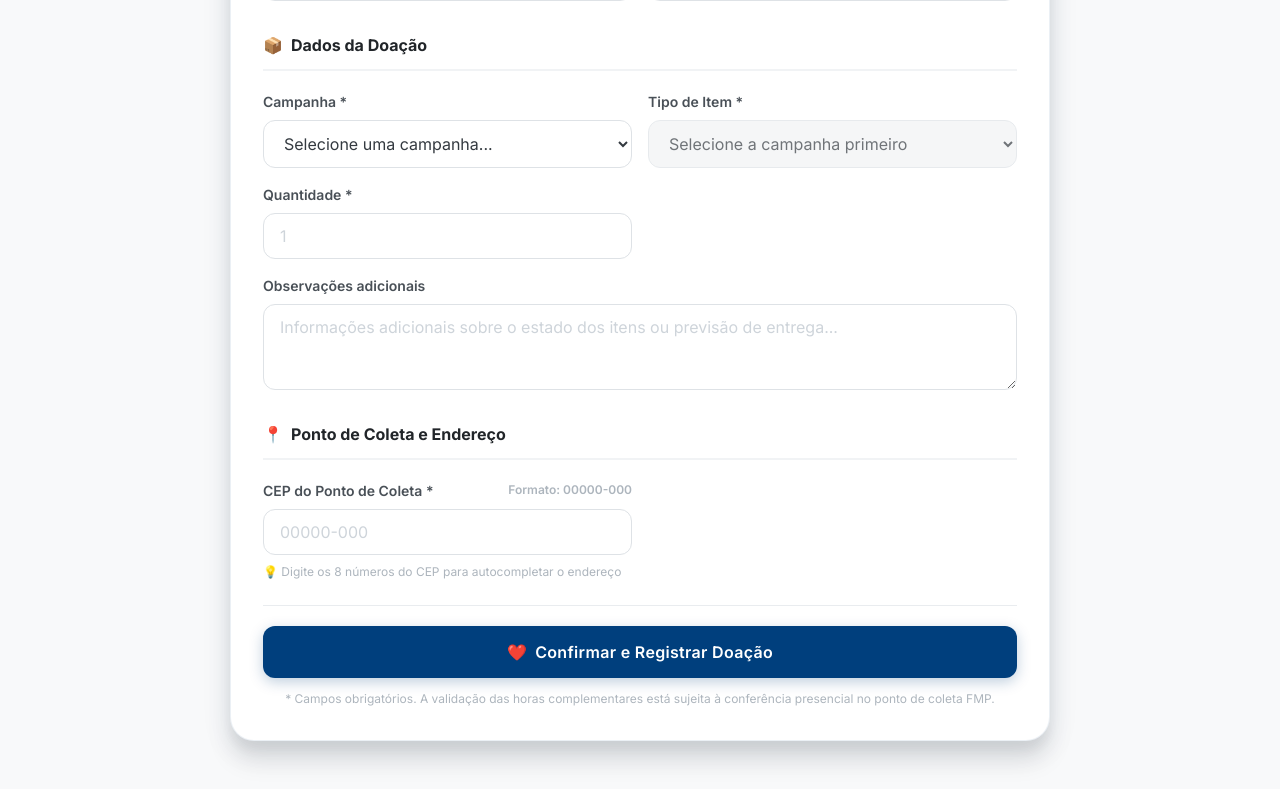
DonationForm — Preenchimento Automático via CEP (ViaCEP) › deve exibir mensagem amigável de erro caso o CEP seja inválido ou não encontrado
(page scrolled)
In the field labelled "CEP do Ponto de Coleta * Formato: 00000-000": (448, 532) [263,508,632,554], type "99999999"
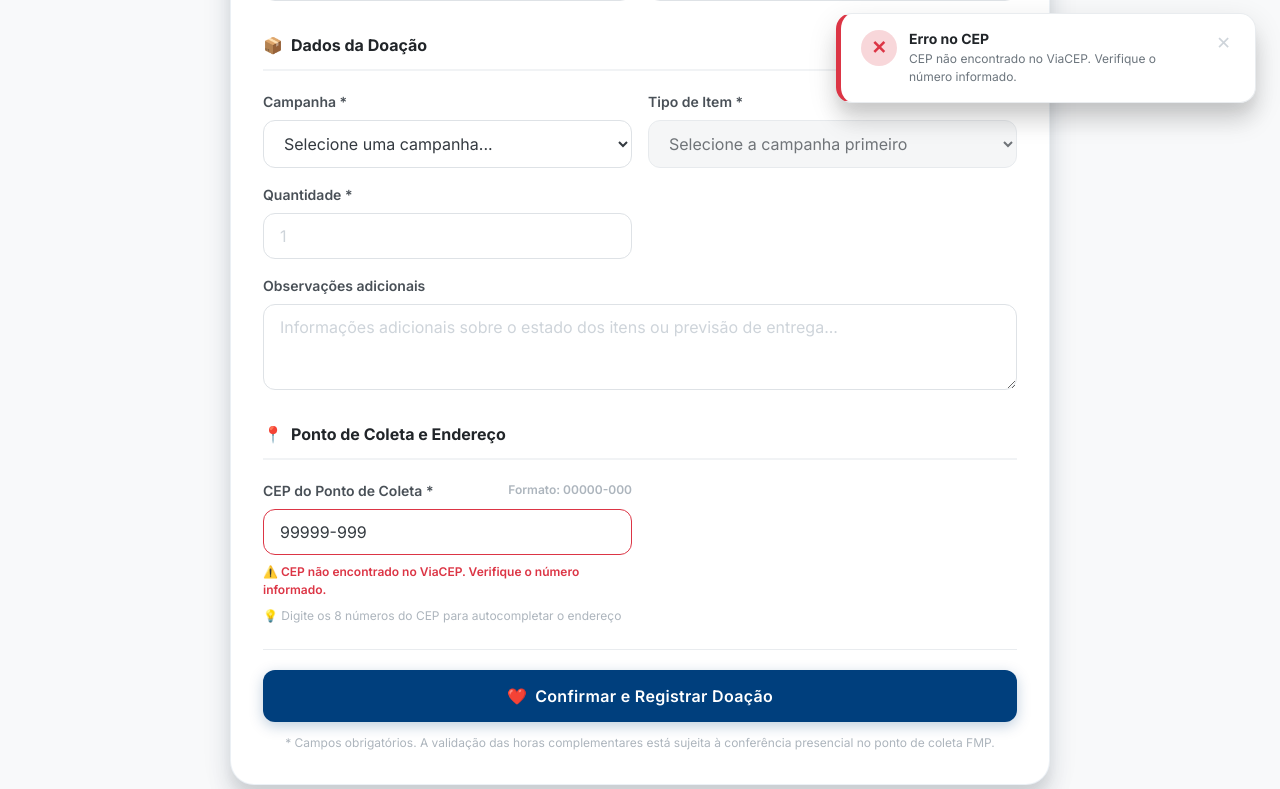
Check: the message "⚠️ CEP não encontrado no ViaCEP. Verifique o número informado." is shown, box [263,562,632,598]
